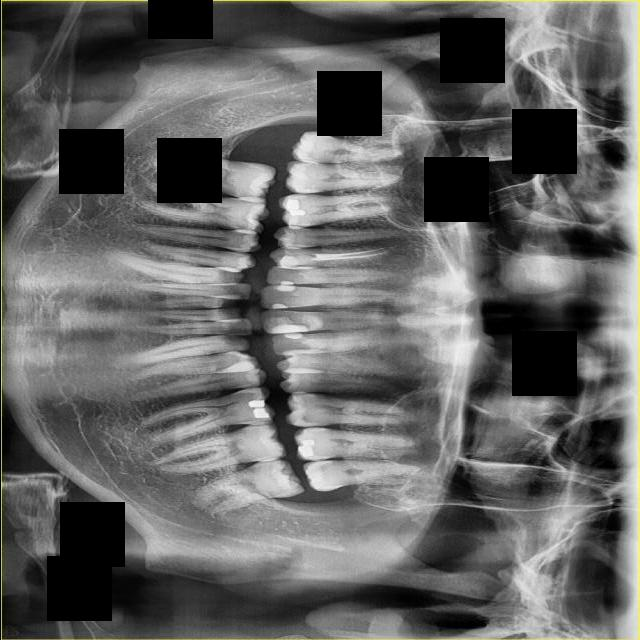74: (311, 247, 389, 262)
NucleOSS Implant: (281, 195, 306, 222), (247, 398, 269, 422), (297, 440, 313, 457)
Sterngold Implant: (298, 413, 318, 428), (313, 460, 333, 472), (231, 223, 250, 232), (312, 455, 328, 461)
Straumann Implant: (262, 315, 310, 337), (279, 248, 314, 275), (281, 333, 301, 340), (273, 285, 295, 291), (272, 303, 287, 308), (278, 281, 293, 284)
